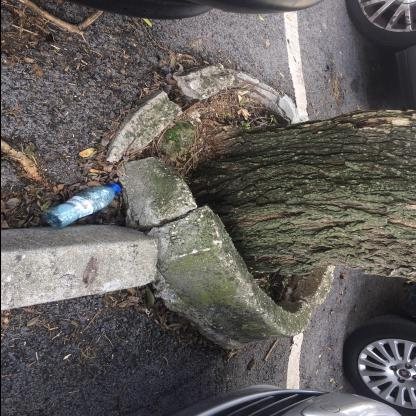plastik: (41, 183, 121, 228)
